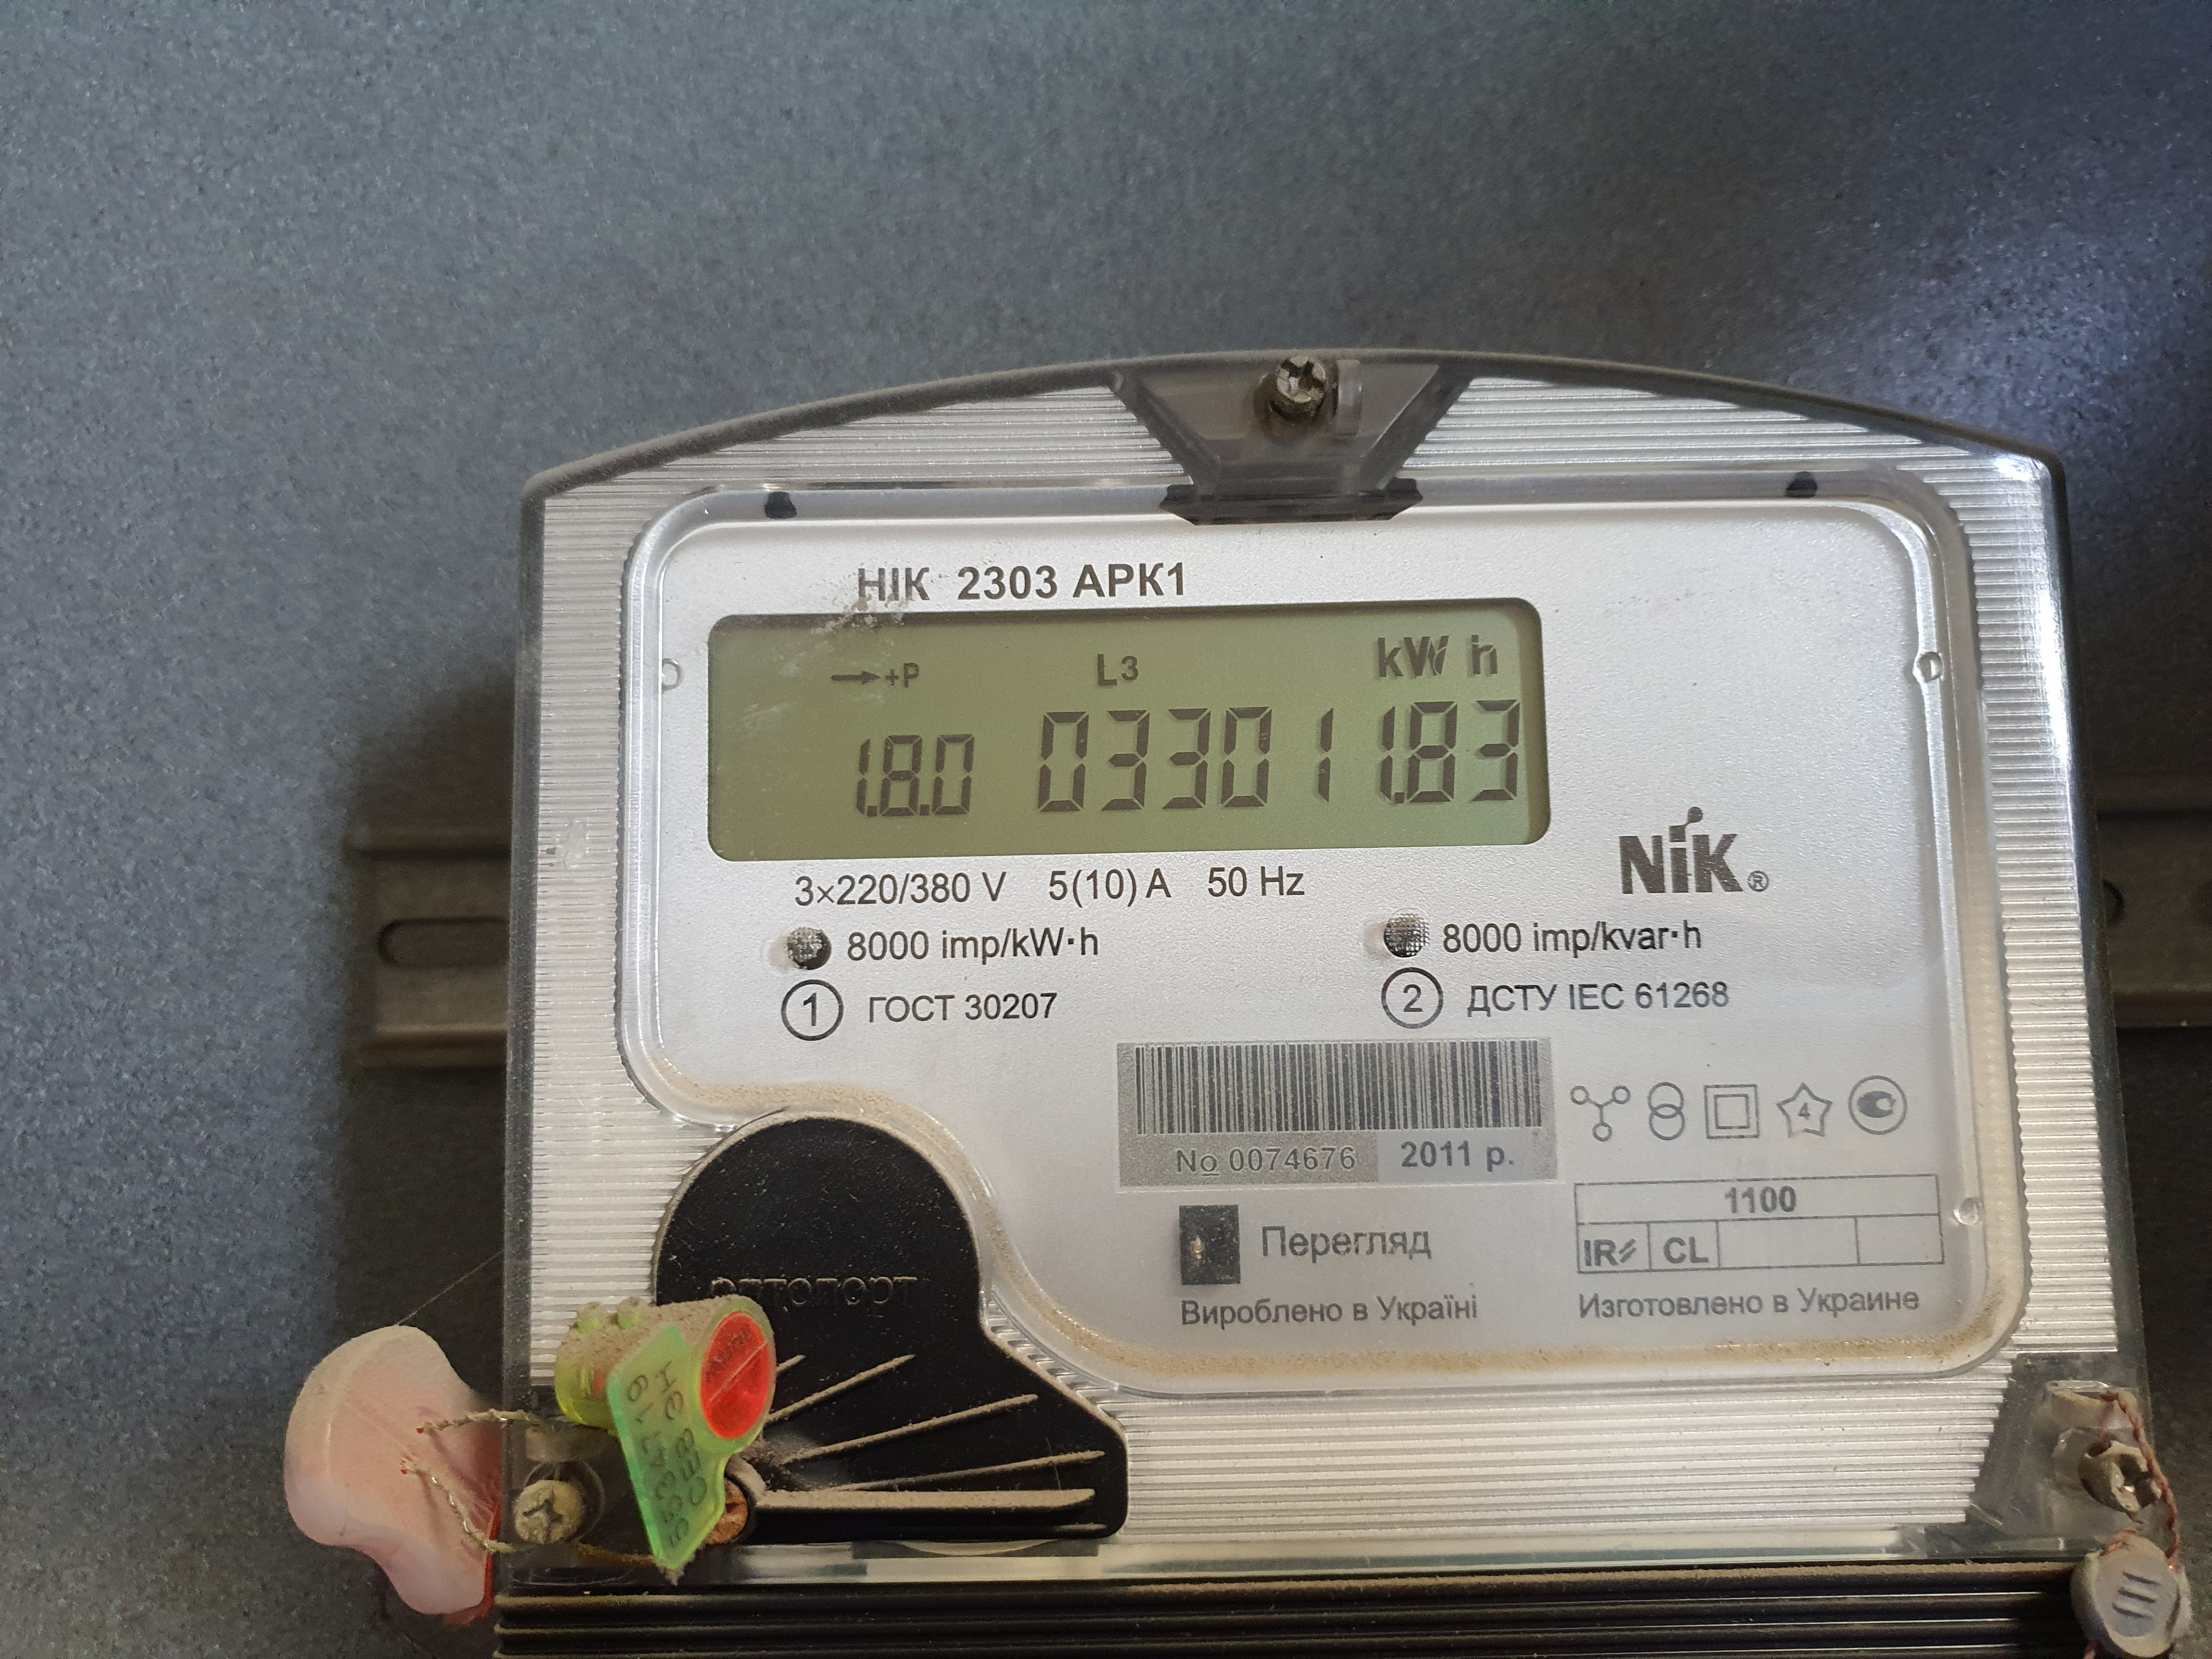screen: (667, 556, 1601, 906)
